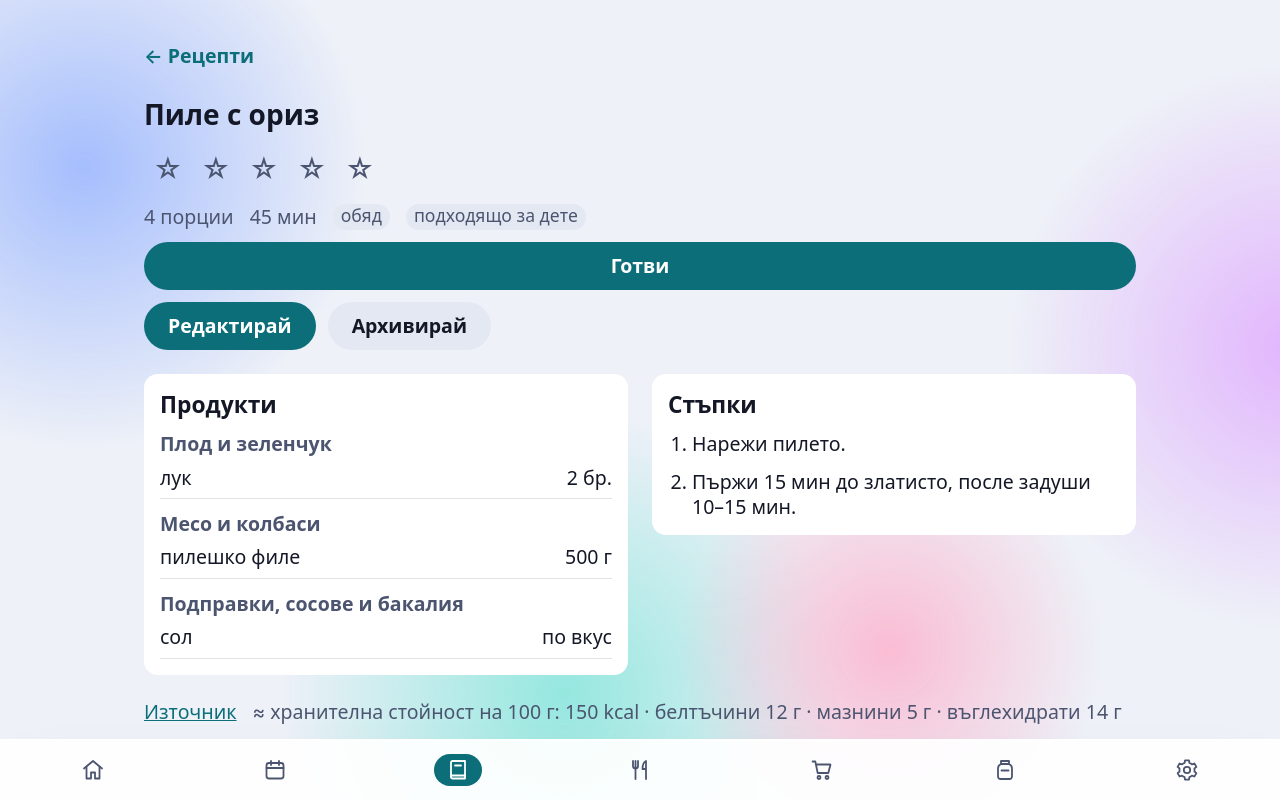
it: Излизане от Готвене с таймер › без таймер „Готово“ излиза без потвърждение
This screenshot has width=1280, height=800.
Click the link "Готви".
click(640, 266)  # box [144,242,1136,290]
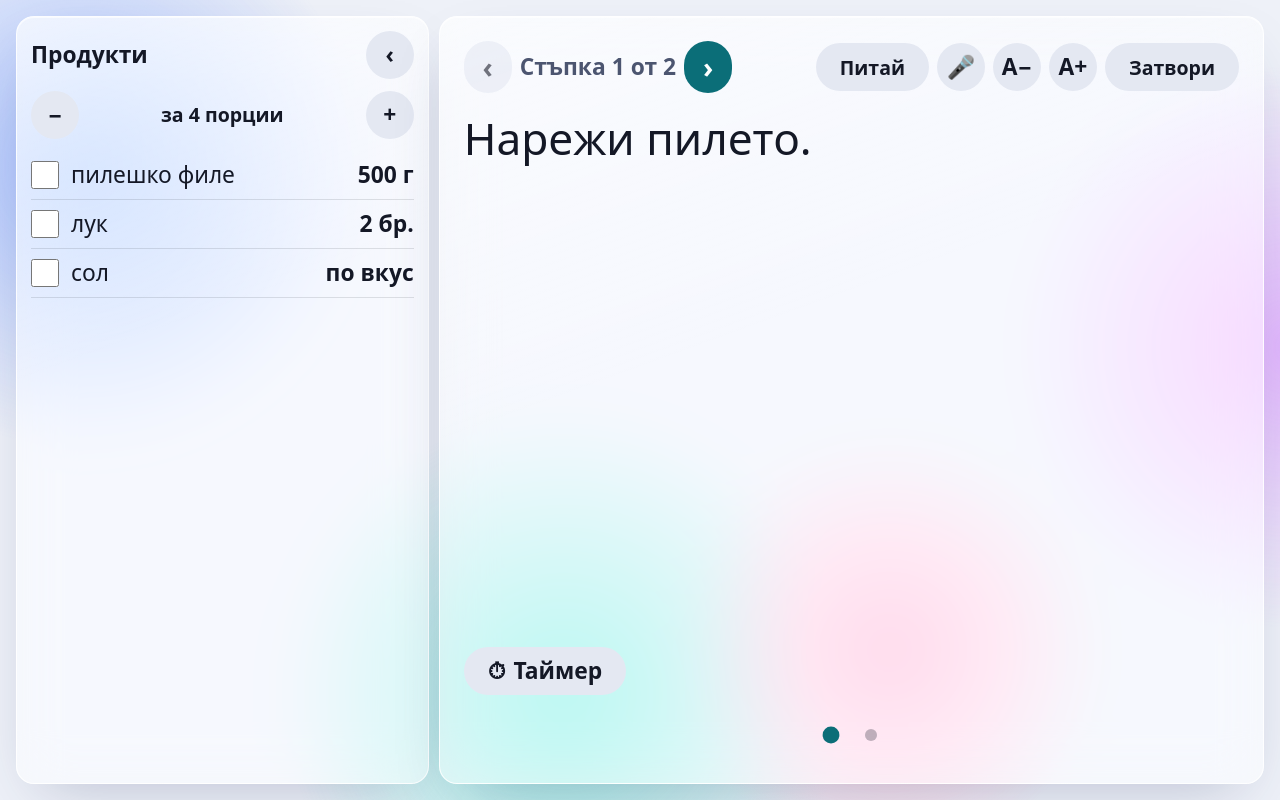
Click the button named "Напред".
click(708, 67)  # box [684,41,732,93]
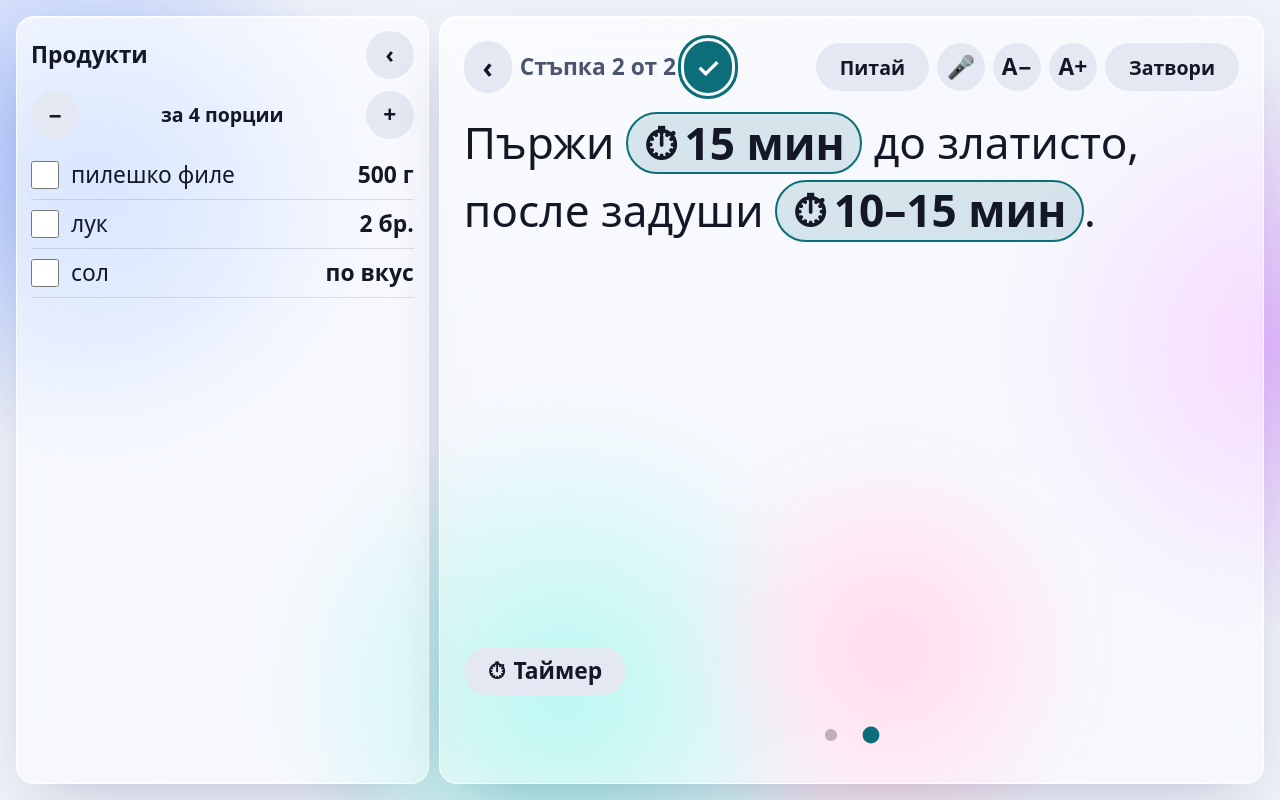
Click the button named "Готово".
click(708, 67)  # box [684,41,732,93]
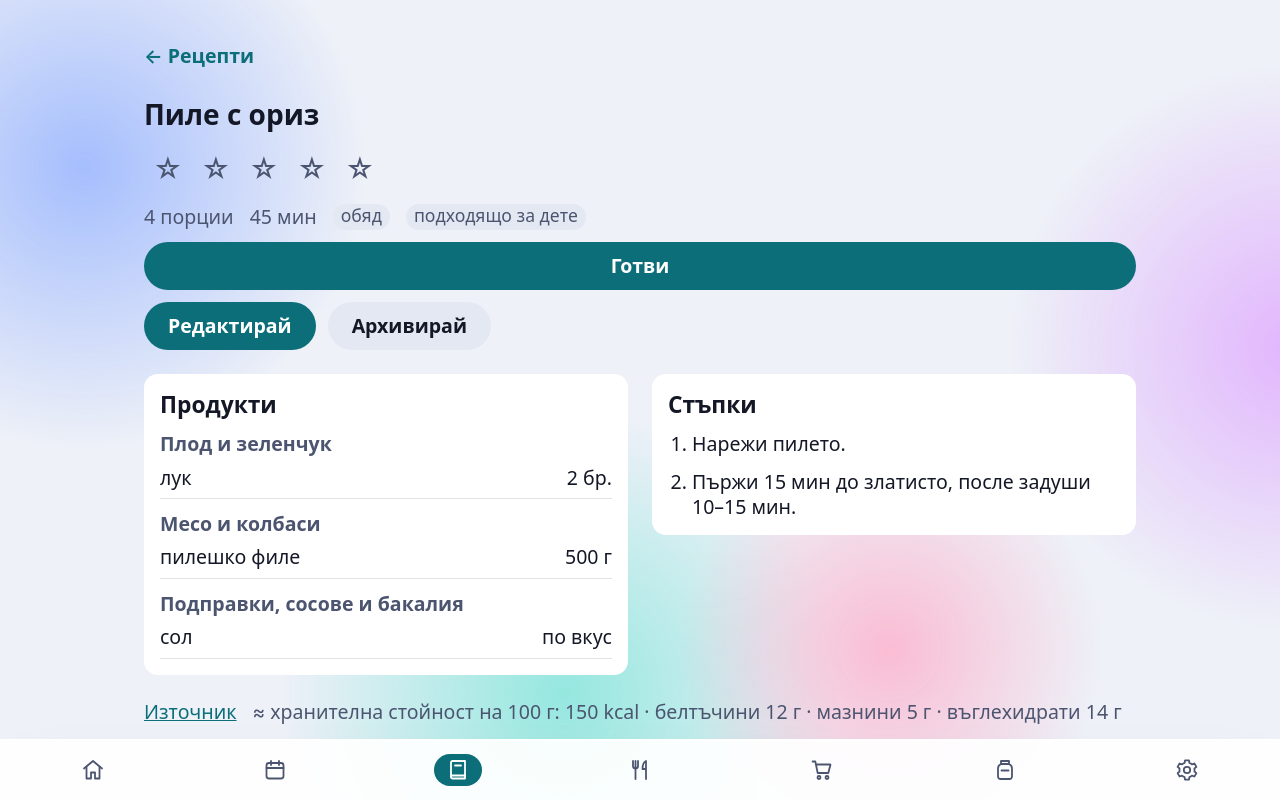
expect the heading "Пиле с ориз" is shown: met, box [144,95,319,133]
